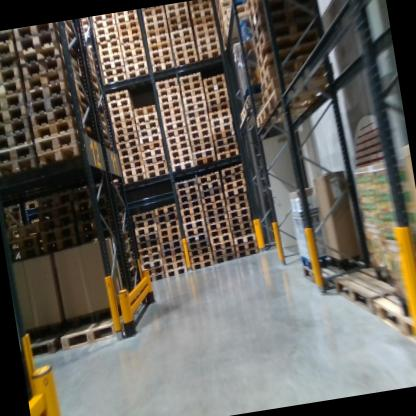pallet: (328, 252, 416, 324), (254, 72, 336, 131), (56, 301, 132, 354), (249, 0, 319, 45), (254, 30, 325, 74), (299, 249, 366, 294), (253, 39, 325, 80), (370, 287, 416, 350), (252, 18, 321, 59), (261, 73, 331, 113), (257, 58, 327, 94), (20, 39, 84, 76), (19, 51, 87, 85), (30, 102, 95, 137), (18, 27, 82, 62), (27, 88, 93, 121), (19, 66, 87, 96), (248, 0, 320, 28), (28, 76, 93, 105), (56, 179, 112, 211), (28, 116, 93, 143), (13, 19, 78, 46), (34, 130, 94, 158), (34, 139, 87, 170), (27, 325, 69, 359), (222, 2, 258, 40), (248, 0, 313, 21), (6, 239, 47, 266), (31, 224, 77, 248), (72, 225, 116, 248), (0, 157, 36, 182), (62, 194, 111, 212), (34, 204, 75, 224), (0, 138, 33, 162), (40, 237, 78, 257), (36, 189, 73, 209), (73, 205, 113, 223), (0, 127, 32, 149), (34, 217, 75, 234), (0, 112, 30, 135), (6, 232, 41, 251), (0, 103, 28, 124), (0, 88, 25, 111), (241, 92, 272, 110), (9, 218, 40, 236), (75, 217, 114, 231), (213, 0, 234, 25), (236, 105, 265, 123), (100, 65, 126, 85), (106, 96, 136, 112), (176, 68, 202, 86), (215, 8, 231, 37), (220, 160, 247, 177), (160, 253, 188, 269), (177, 210, 205, 226), (0, 79, 23, 98), (162, 264, 189, 280), (112, 122, 139, 138), (218, 28, 235, 53), (152, 199, 177, 216), (223, 192, 249, 208), (136, 243, 161, 259), (156, 84, 181, 100), (171, 40, 196, 56), (185, 238, 211, 253), (182, 225, 208, 240), (182, 217, 208, 232), (105, 90, 134, 103), (185, 231, 210, 246), (232, 232, 257, 247), (132, 101, 157, 116), (154, 217, 180, 231), (159, 243, 185, 257), (109, 109, 135, 123), (0, 63, 20, 81), (23, 195, 43, 213), (157, 224, 181, 239), (223, 183, 247, 198), (215, 147, 239, 162), (206, 85, 228, 101), (125, 68, 152, 81), (132, 216, 157, 230), (153, 209, 178, 223), (200, 192, 225, 206), (210, 237, 235, 251), (230, 225, 255, 239), (175, 174, 198, 189), (161, 112, 184, 127), (134, 238, 160, 251), (177, 192, 203, 205), (226, 205, 252, 218), (224, 201, 250, 214), (137, 139, 163, 152), (187, 246, 211, 260), (198, 178, 222, 192), (223, 178, 247, 192), (206, 95, 230, 109), (204, 81, 228, 95), (203, 73, 227, 87), (152, 78, 180, 90), (138, 147, 166, 159), (120, 163, 144, 177), (118, 153, 142, 167), (169, 26, 193, 40), (87, 69, 102, 91), (137, 251, 162, 264), (229, 220, 254, 233), (207, 107, 232, 120), (109, 104, 134, 117), (160, 251, 187, 263), (93, 29, 120, 41), (210, 115, 233, 129), (160, 105, 183, 119), (97, 126, 113, 146), (134, 231, 158, 244), (131, 209, 155, 222), (157, 238, 183, 250), (189, 251, 213, 264), (178, 198, 202, 211), (210, 247, 236, 259), (207, 101, 231, 114), (159, 98, 183, 111), (115, 138, 141, 150), (196, 48, 222, 60), (0, 53, 17, 71), (199, 186, 224, 198), (201, 199, 226, 211), (203, 207, 228, 219), (211, 128, 236, 140), (210, 122, 235, 134), (181, 93, 206, 105), (187, 128, 212, 140), (170, 161, 195, 173), (137, 131, 162, 143), (96, 38, 121, 50), (173, 56, 198, 68), (167, 21, 192, 33), (158, 231, 181, 244), (213, 252, 236, 265), (148, 39, 171, 52), (133, 223, 157, 235), (181, 205, 205, 217), (197, 171, 221, 183), (229, 214, 253, 226), (184, 115, 208, 127), (119, 158, 143, 170), (93, 23, 117, 35), (122, 53, 146, 65), (203, 212, 229, 223), (85, 49, 98, 71), (82, 37, 95, 59), (191, 7, 213, 20), (214, 142, 237, 154), (193, 155, 216, 167), (145, 167, 168, 179), (117, 146, 140, 158), (124, 59, 147, 71), (117, 25, 140, 37), (165, 13, 188, 25), (165, 7, 188, 19), (141, 266, 166, 277), (138, 259, 163, 270), (189, 260, 214, 271), (110, 119, 135, 130), (91, 16, 116, 27), (235, 248, 259, 259), (180, 79, 204, 90), (183, 86, 205, 98), (191, 141, 215, 152), (166, 141, 190, 152), (164, 134, 188, 145), (163, 127, 187, 138), (135, 112, 159, 123), (120, 40, 144, 51), (188, 0, 212, 11), (195, 34, 219, 45), (99, 59, 125, 69), (0, 30, 17, 45), (209, 233, 232, 244), (184, 101, 207, 112), (169, 148, 192, 159), (142, 6, 165, 17), (143, 14, 166, 25), (151, 54, 174, 65), (152, 61, 175, 72), (171, 35, 194, 46), (164, 3, 187, 14), (158, 93, 179, 105), (174, 186, 199, 196), (213, 135, 238, 145), (186, 122, 211, 132), (98, 52, 123, 62), (118, 33, 143, 43), (223, 171, 245, 182), (207, 226, 231, 236), (142, 155, 166, 165), (114, 133, 138, 143), (115, 19, 139, 29), (146, 32, 170, 42), (192, 22, 216, 32), (194, 28, 218, 38), (188, 136, 214, 145), (206, 220, 229, 230), (235, 242, 258, 252), (136, 120, 159, 130), (122, 173, 147, 182), (97, 47, 122, 56), (0, 41, 14, 57), (94, 90, 107, 107), (243, 0, 263, 11), (146, 273, 166, 284), (185, 109, 207, 119), (192, 149, 214, 159), (169, 155, 193, 164), (143, 162, 167, 171), (144, 21, 168, 30), (197, 42, 221, 51), (121, 249, 136, 263), (112, 210, 126, 225), (146, 27, 169, 36), (150, 48, 173, 57), (192, 16, 215, 25), (128, 267, 140, 284), (164, 122, 186, 131), (121, 256, 136, 269), (114, 223, 130, 235), (136, 127, 160, 135), (91, 12, 115, 20), (121, 48, 145, 56), (114, 14, 138, 22), (98, 112, 108, 131), (176, 50, 197, 59), (119, 240, 134, 252), (116, 10, 137, 17), (118, 233, 131, 243), (187, 0, 212, 5), (80, 26, 91, 37), (79, 18, 90, 27)
